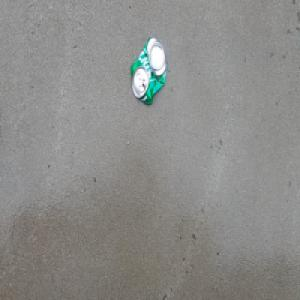SodaCan: (129, 33, 167, 106)
